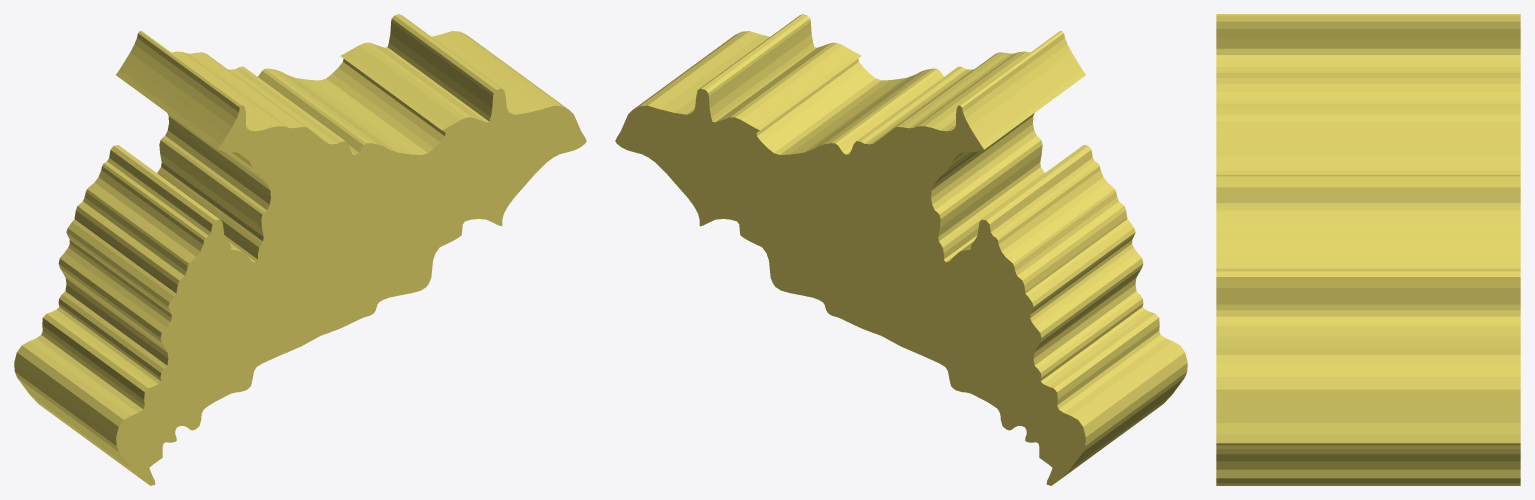
File: huamalies.glb
The picture shows the model from 3 angles, left to right: view 1: azimuth 30°, elevation 25°; view 2: azimuth 150°, elevation 25°; view 3: azimuth 270°, elevation 25°; orthographic projection. The views are drawn at different scales.
Visible parts, largest first — view 1: huamalies; view 2: huamalies; view 3: huamalies.
Part boxes in pixels (left/top/right/bottom): huamalies: left=14, top=14, right=586, bottom=485; huamalies: left=615, top=14, right=1187, bottom=485; huamalies: left=1216, top=14, right=1520, bottom=485.
Size of the model in its own units: 3.55 by 2.58 by 1.33.
